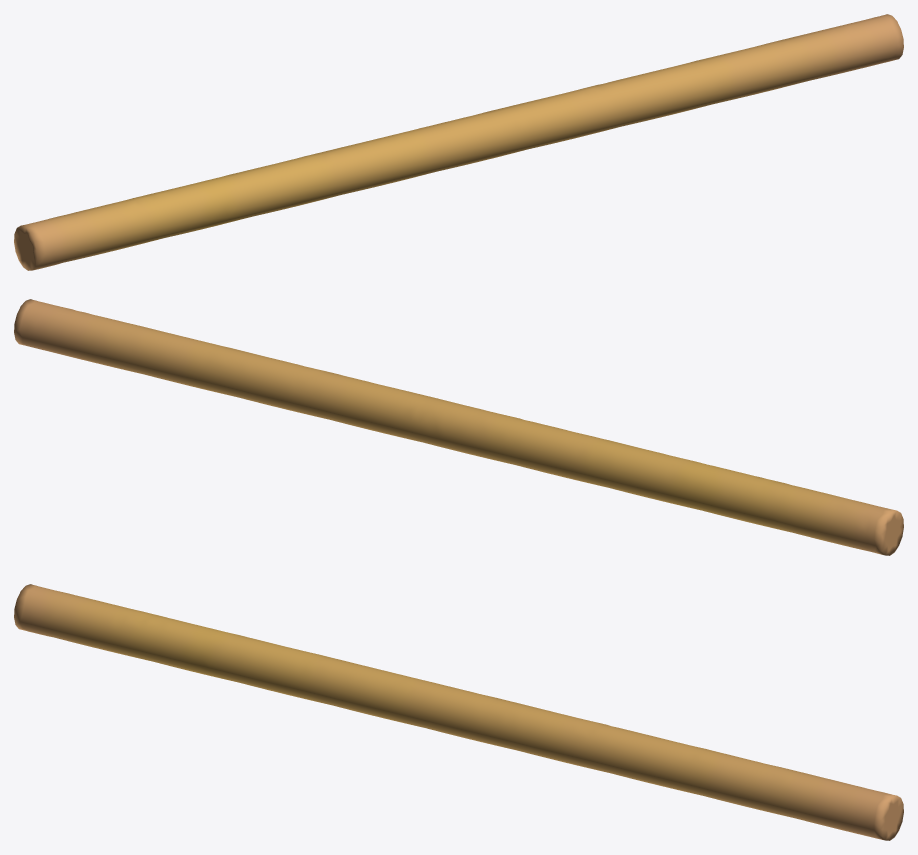
The model's file is array_year10.gltf.
3 renders of one model, top to bottom at view 1: azimuth 30°, elevation 25°; view 2: azimuth 150°, elevation 25°; view 3: azimuth 330°, elevation 25°, orthographic.
Parts seen in each view (by area): view 1: Renderer Node; view 2: Renderer Node; view 3: Renderer Node.
Boxes of the visible parts, x1=… form: Renderer Node: x1=14, y1=14, x2=903, y2=270; Renderer Node: x1=14, y1=299, x2=903, y2=555; Renderer Node: x1=14, y1=584, x2=903, y2=840.
Size of the model in its own units: 45 by 2.1 by 2.1.
